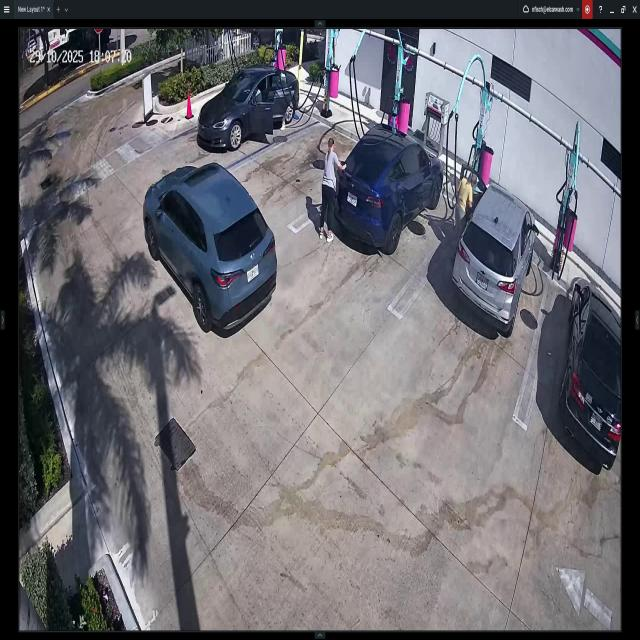Car: (140, 166, 276, 332), (330, 129, 442, 260), (451, 188, 537, 334), (565, 283, 620, 470), (198, 72, 300, 163), (249, 24, 307, 54)
